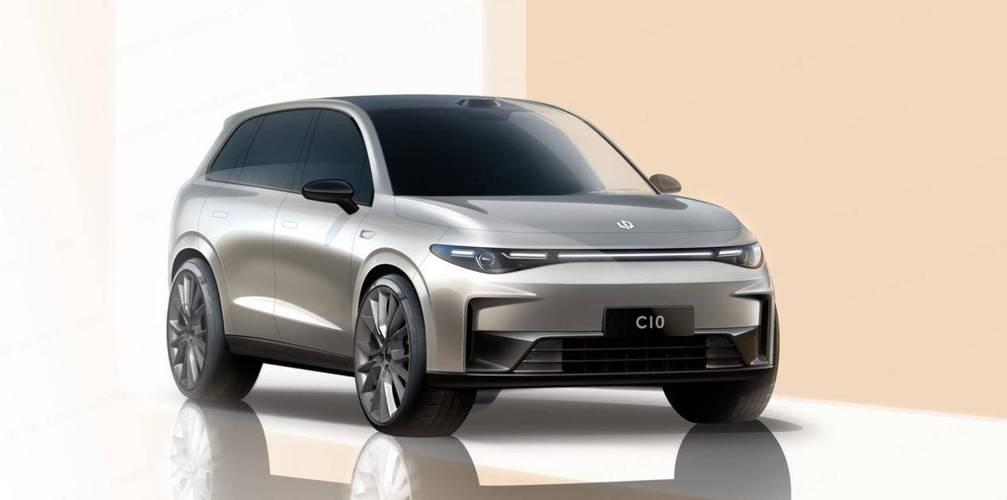LEAPMOTOR: (617, 220, 634, 229)
